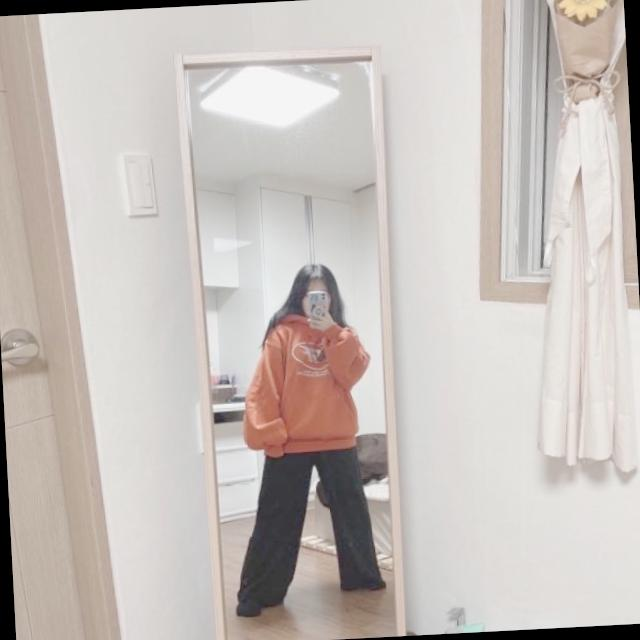hoodies: (238, 306, 376, 455)
slacks: (232, 442, 385, 612)
